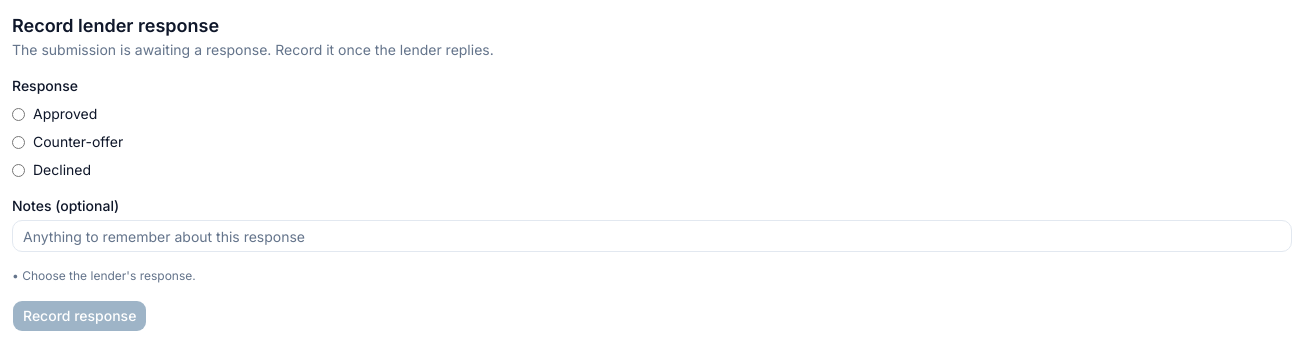
Test: LenderSubmissionResponseForm › disables submit until a response is selected in record mode
The width and height of the screenshot is (1304, 349).
Expected: the button with test id "lender-submission-response-submit" is disabled, 12,300 -> 147,332
Click the radio button with test id "lender-submission-response-approved".
click(18, 114)  # box 12,108 -> 25,120
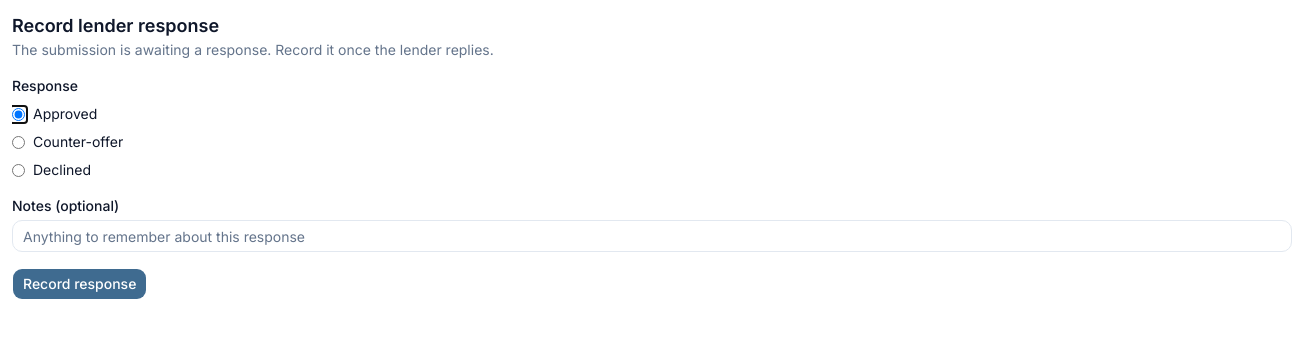
Now the button with test id "lender-submission-response-submit" is enabled, box 12,268 -> 147,300
